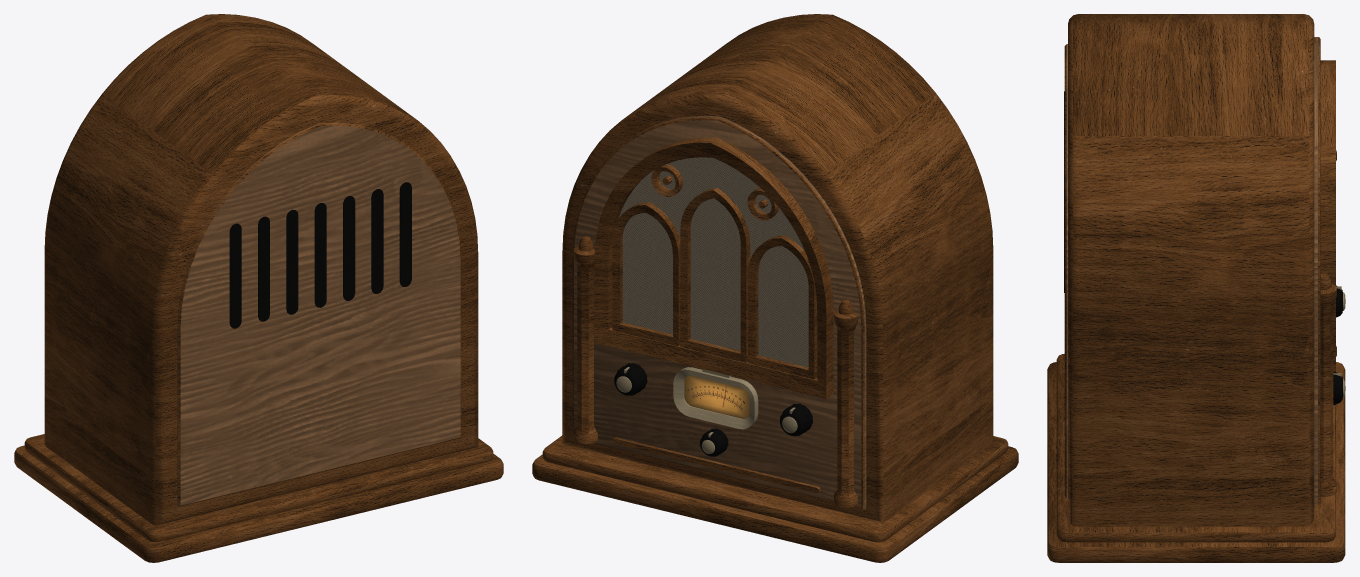
The model's file is radio_1920s.glb.
The picture shows the model from 3 angles, left to right: view 1: azimuth 30°, elevation 25°; view 2: azimuth 150°, elevation 25°; view 3: azimuth 270°, elevation 25°; orthographic projection. The views are drawn at different scales.
Parts seen in each view (by area): view 1: Cabinet; view 2: Cabinet, Cloth, Dial, Knobs; view 3: Cabinet, Knobs.
Part boxes in pixels (x1,y1,x2,y2): Cabinet: (14,14,503,562); Cabinet: (532,14,1018,562); Cloth: (618,157,808,367); Dial: (673,367,758,429); Knobs: (614,363,812,456); Cabinet: (1047,14,1345,562); Knobs: (1333,285,1345,405).
Size of the model in its own units: 0.43 by 0.481 by 0.2904.
6 materials, 6 textured.
